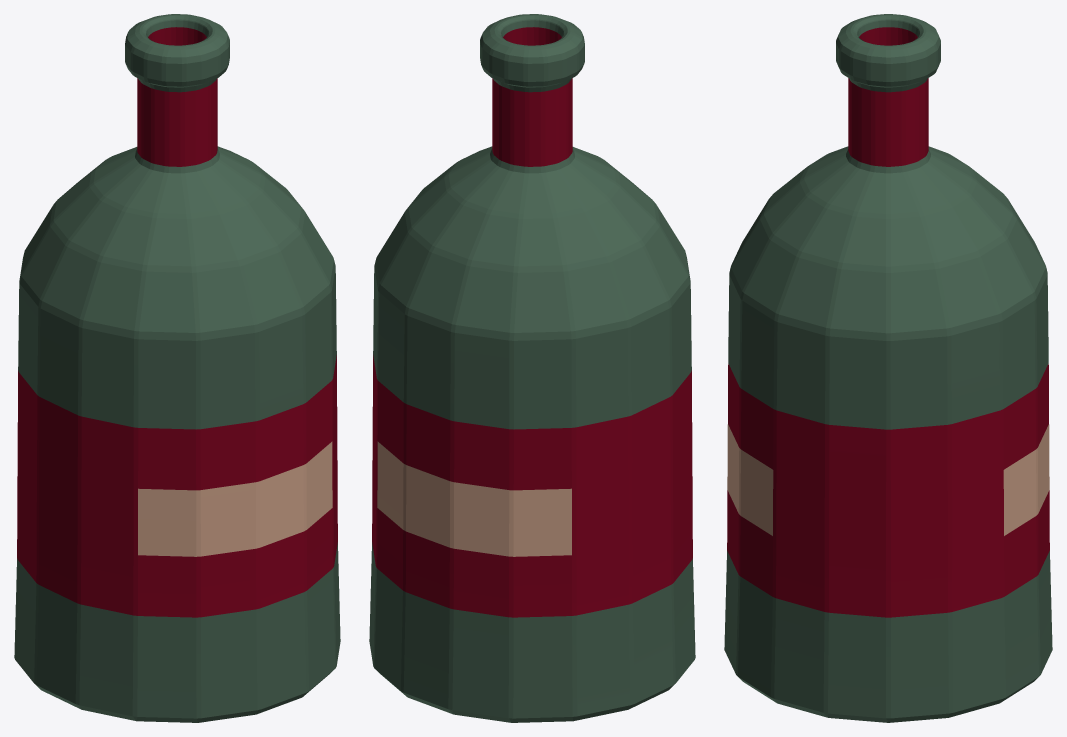
Rendered from alcohol_bottle_4_partyassetst.fbx.
The picture shows the model from 3 angles, left to right: view 1: azimuth 30°, elevation 25°; view 2: azimuth 150°, elevation 25°; view 3: azimuth 270°, elevation 25°; orthographic projection.
Visible parts, largest first — view 1: alcohol_bottle_4_partyassetst; view 2: alcohol_bottle_4_partyassetst; view 3: alcohol_bottle_4_partyassetst.
Part boxes in pixels (box(x1,y1,x2,y2)): alcohol_bottle_4_partyassetst: box(14, 14, 340, 722); alcohol_bottle_4_partyassetst: box(369, 14, 695, 722); alcohol_bottle_4_partyassetst: box(724, 14, 1052, 722).
Size of the model in its own units: 11.72 by 24.67 by 11.72.
